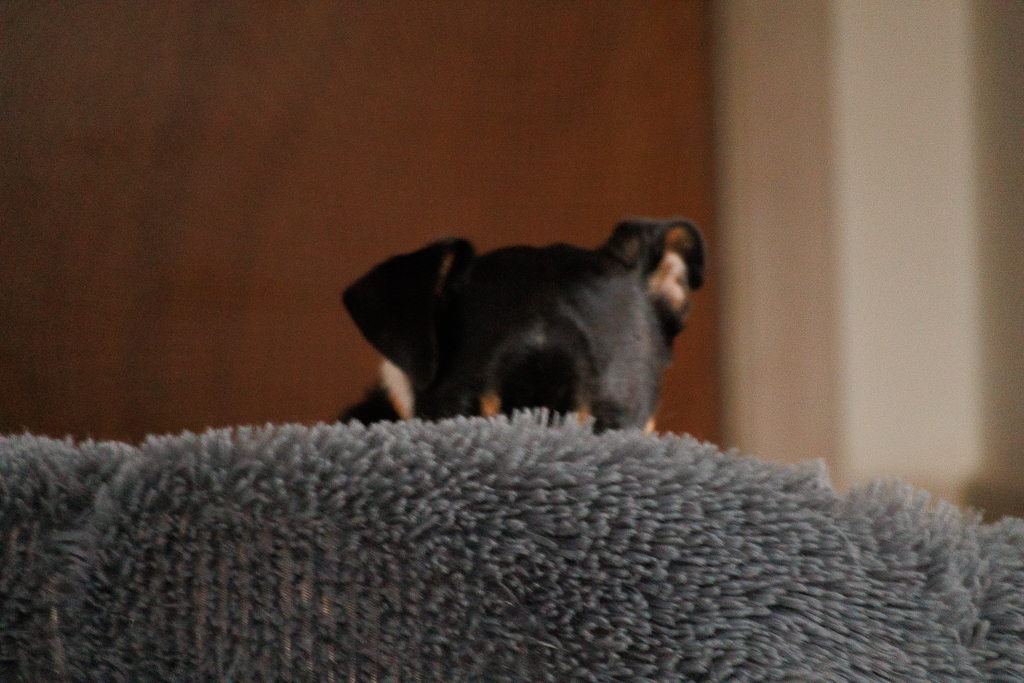Dog: (307, 197, 724, 494)
